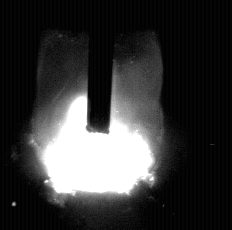arame: (88, 0, 111, 134)
poca: (34, 0, 164, 230)
